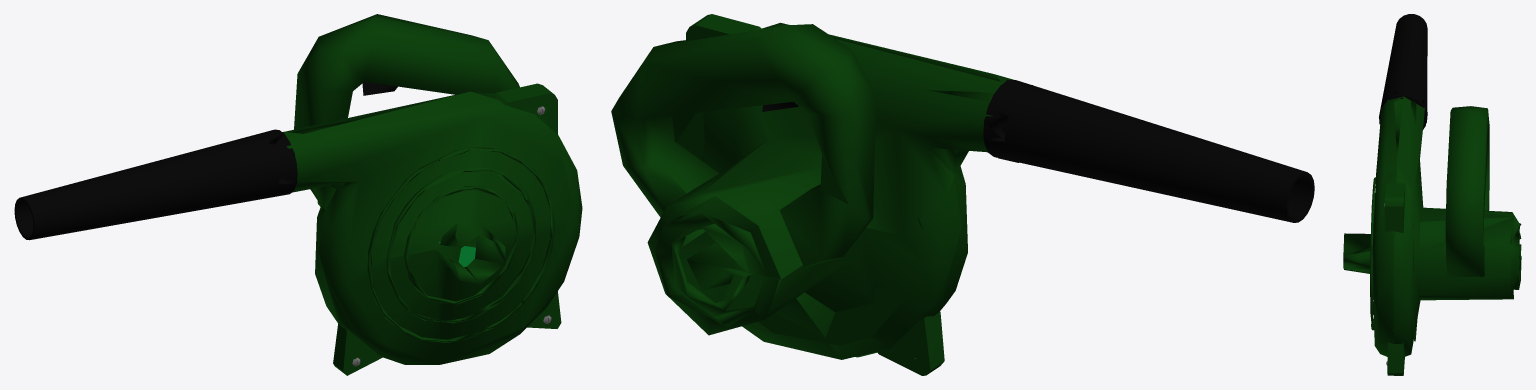
Rendered from blower.FBX.
The picture shows the model from 3 angles, left to right: view 1: azimuth 30°, elevation 25°; view 2: azimuth 150°, elevation 25°; view 3: azimuth 270°, elevation 25°; orthographic projection. The views are drawn at different scales.
Parts seen in each view (by area): view 1: Plane11, Tube01, Plane10, Circle02, Circle03, Plane04, Box14, Circle04, Box15, Box16; view 2: Plane04, Plane10, Tube01, Donut01, Plane11, Box15, Box14; view 3: Plane04, Plane10, Plane11, Tube01, Box14, Box16, Circle02.
Boxes of the visible parts, left/top/right/bottom form: Plane11: left=282, top=91, right=582, bottom=364; Tube01: left=14, top=129, right=297, bottom=240; Plane10: left=294, top=14, right=519, bottom=204; Circle02: left=367, top=147, right=554, bottom=342; Circle03: left=386, top=167, right=535, bottom=323; Plane04: left=285, top=91, right=496, bottom=323; Box14: left=495, top=83, right=557, bottom=134; Circle04: left=404, top=186, right=518, bottom=304; Box15: left=333, top=324, right=382, bottom=375; Box16: left=527, top=291, right=561, bottom=328; Plane04: left=647, top=39, right=1003, bottom=359; Plane10: left=611, top=24, right=876, bottom=267; Tube01: left=983, top=80, right=1314, bottom=222; Donut01: left=676, top=112, right=922, bottom=345; Plane11: left=762, top=22, right=1013, bottom=357; Box15: left=877, top=311, right=944, bottom=375; Box14: left=686, top=14, right=761, bottom=39; Plane04: left=1393, top=96, right=1521, bottom=356; Plane10: left=1445, top=106, right=1489, bottom=277; Plane11: left=1343, top=96, right=1402, bottom=356; Tube01: left=1379, top=14, right=1427, bottom=129; Box14: left=1384, top=183, right=1405, bottom=236; Box16: left=1387, top=340, right=1404, bottom=375; Circle02: left=1370, top=177, right=1375, bottom=330.
Size of the model in its own units: 150 by 83.17 by 58.77.
